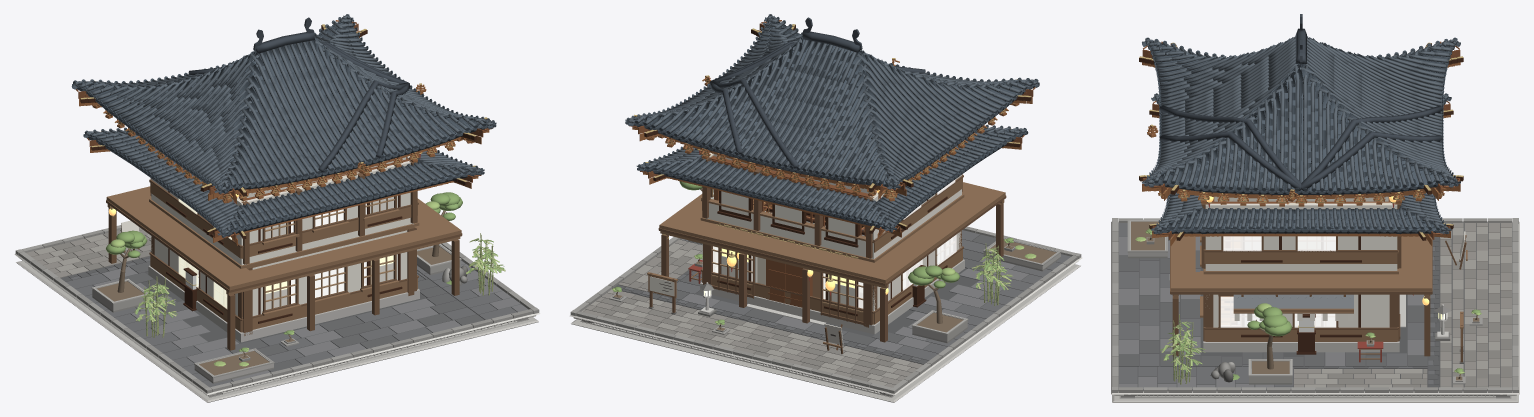
File: wenmai_gallery_v5_wm_roof.glb
3 renders of one model, left to right at view 1: azimuth 30°, elevation 25°; view 2: azimuth 150°, elevation 25°; view 3: azimuth 270°, elevation 25°, orthographic. The views are drawn at different scales.
Parts seen in each view (by area): view 1: TILE_Rib, SITE_PAVE_FIELD, TILE_Pan, VER_Slab, TILE_Skirt_Rib, SITE_BASE_COURSES, SITE_KERB, SITE_BEDS, TILE_Skirt_Pan, ROOF_Bracket, ROOF_Ridge, SITE_PAVE_APRON (+26 smaller); view 2: TILE_Rib, TILE_Pan, SITE_PAVE_APRON, SITE_PAVE_FIELD, VER_Slab, TILE_Skirt_Rib, SITE_BASE_COURSES, SITE_KERB, TILE_Skirt_Pan, ROOF_Bracket, ROOF_Ridge, SITE_BEDS (+25 smaller); view 3: TILE_Rib, SITE_PAVE_FIELD, SITE_PAVE_APRON, TILE_Pan, SITE_BASE_COURSES, VER_Slab, SITE_KERB, ROOF_Ridge, TILE_Skirt_Rib, TILE_Skirt_Pan, ROOF_Bracket, SITE_PAVE_WALK (+36 smaller).
Part boxes in pixels (x1,y1,x2,y2): TILE_Rib: (74,15,492,190); SITE_PAVE_FIELD: (66,260,528,387); TILE_Pan: (71,15,496,193); VER_Slab: (106,186,461,289); TILE_Skirt_Rib: (86,129,481,234); SITE_BASE_COURSES: (14,253,540,402); SITE_KERB: (15,225,539,393); SITE_BEDS: (91,243,461,383); TILE_Skirt_Pan: (83,132,484,236); ROOF_Bracket: (79,30,489,203); ROOF_Ridge: (188,32,410,172); SITE_PAVE_APRON: (26,227,151,277); TILE_Rib: (628,15,1037,186); TILE_Pan: (625,16,1039,189); SITE_PAVE_APRON: (581,289,923,387); SITE_PAVE_FIELD: (661,230,1070,360); VER_Slab: (659,182,1005,283); TILE_Skirt_Rib: (639,126,1025,228); SITE_BASE_COURSES: (569,257,1082,402); SITE_KERB: (570,226,1081,393); TILE_Skirt_Pan: (636,129,1028,230); ROOF_Bracket: (632,30,1032,201); ROOF_Ridge: (709,31,925,168); SITE_BEDS: (688,237,1061,343); TILE_Rib: (1145,36,1457,189); SITE_PAVE_FIELD: (1119,223,1427,389); SITE_PAVE_APRON: (1440,223,1511,389); TILE_Pan: (1142,37,1460,190); SITE_BASE_COURSES: (1111,221,1519,402); VER_Slab: (1171,236,1431,291); SITE_KERB: (1112,218,1518,392); ROOF_Ridge: (1159,28,1443,190); TILE_Skirt_Rib: (1154,94,1448,230); TILE_Skirt_Pan: (1151,97,1451,233); ROOF_Bracket: (1142,62,1460,206); SITE_PAVE_WALK: (1294,369,1427,389).
Bounding box in the file's own units: 15.98 × 12.68 × 15.98.
